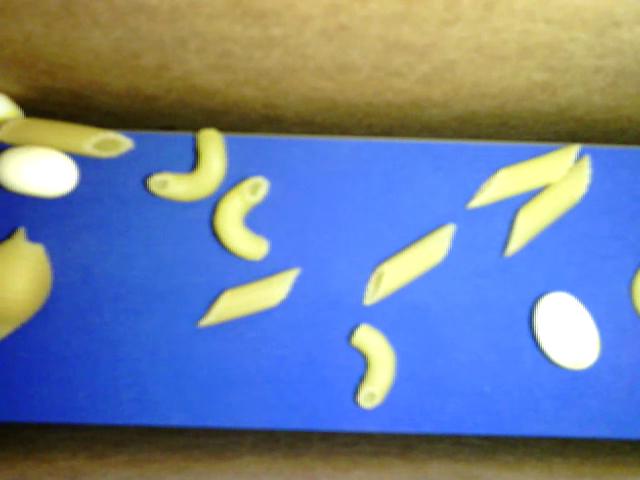elbow: (146, 126, 229, 203), (213, 174, 269, 261), (350, 321, 396, 409)
penne: (503, 154, 592, 257), (362, 223, 455, 306), (466, 145, 582, 207), (196, 265, 301, 328), (1, 118, 133, 159)
shell: (1, 228, 53, 339)
